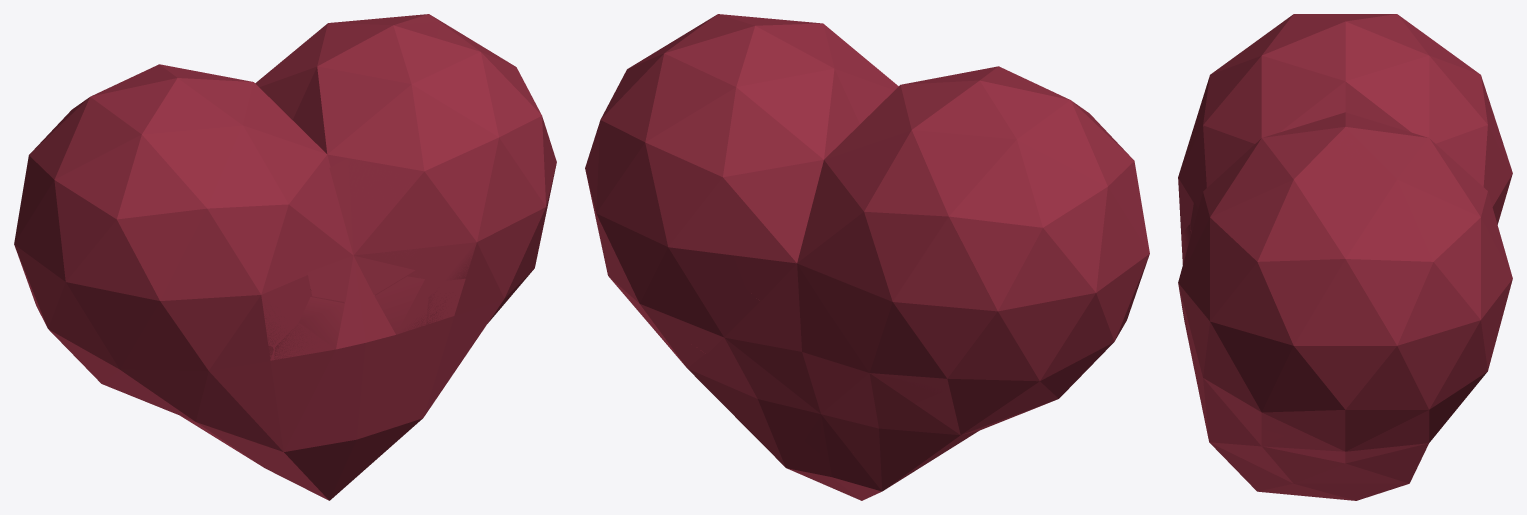
The model's file is heart.glb.
The picture shows the model from 3 angles, left to right: view 1: azimuth 30°, elevation 25°; view 2: azimuth 150°, elevation 25°; view 3: azimuth 270°, elevation 25°; orthographic projection. The views are drawn at different scales.
Visible parts, largest first — view 1: Origin, Heart_Full_cell.010, Heart_Full_cell.026, Heart_Full_cell.013, Heart_Full_cell.030, Heart_Full_cell.021, Heart_Full_cell.045, Heart_Full_cell.052, Heart_Full_cell.046, Heart_Full_cell.004, Heart_Full_cell.032, Heart_Full_cell.001 (+9 smaller); view 2: Origin, Heart_Full_cell.050, Heart_Full_cell.017, Heart_Full_cell.048, Heart_Full_cell.054, Heart_Full_cell.045, Heart_Full_cell.053, Heart_Full_cell.060, Heart_Full_cell.034, Heart_Full_cell.012, Heart_Full_cell.033, Heart_Full_cell.023 (+20 smaller); view 3: Origin, Heart_Full_cell.016, Heart_Full_cell.036, Heart_Full_cell.052, Heart_Full_cell.020, Heart_Full_cell.012, Heart_Full_cell.031, Heart_Full_cell.008, Heart_Full_cell.037, Heart_Full_cell.023, Heart_Full_cell.018, Heart_Full_cell.014 (+15 smaller).
Boxes of the visible parts, box(x1,y1,x2,y2) form: Origin: box(15, 14, 556, 500); Heart_Full_cell.010: box(413, 144, 541, 280); Heart_Full_cell.026: box(40, 221, 116, 325); Heart_Full_cell.013: box(118, 134, 247, 264); Heart_Full_cell.030: box(307, 158, 415, 301); Heart_Full_cell.021: box(92, 105, 229, 216); Heart_Full_cell.045: box(281, 32, 370, 117); Heart_Full_cell.052: box(434, 22, 510, 119); Heart_Full_cell.046: box(113, 222, 210, 337); Heart_Full_cell.004: box(83, 320, 168, 394); Heart_Full_cell.032: box(233, 127, 320, 260); Heart_Full_cell.001: box(321, 22, 439, 61); Origin: box(590, 14, 1149, 500); Heart_Full_cell.050: box(946, 246, 1046, 383); Heart_Full_cell.017: box(846, 240, 946, 374); Heart_Full_cell.048: box(733, 204, 845, 317); Heart_Full_cell.054: box(633, 191, 732, 293); Heart_Full_cell.045: box(751, 45, 871, 116); Heart_Full_cell.053: box(616, 67, 722, 197); Heart_Full_cell.060: box(762, 305, 844, 391); Heart_Full_cell.034: box(1042, 238, 1122, 361); Heart_Full_cell.012: box(829, 162, 950, 269); Heart_Full_cell.033: box(833, 309, 945, 406); Heart_Full_cell.023: box(866, 101, 998, 201); Origin: box(1178, 14, 1512, 500); Heart_Full_cell.016: box(1285, 411, 1420, 457); Heart_Full_cell.036: box(1346, 292, 1438, 409); Heart_Full_cell.052: box(1230, 151, 1383, 228); Heart_Full_cell.020: box(1219, 294, 1344, 401); Heart_Full_cell.012: box(1444, 69, 1499, 187); Heart_Full_cell.031: box(1386, 182, 1464, 312); Heart_Full_cell.008: box(1302, 188, 1388, 314); Heart_Full_cell.037: box(1326, 55, 1402, 118); Heart_Full_cell.023: box(1377, 24, 1469, 106); Heart_Full_cell.018: box(1283, 453, 1405, 477); Heart_Full_cell.014: box(1233, 463, 1351, 498).
Size of the model in its own units: 0.9714 by 0.8057 by 0.5728.
